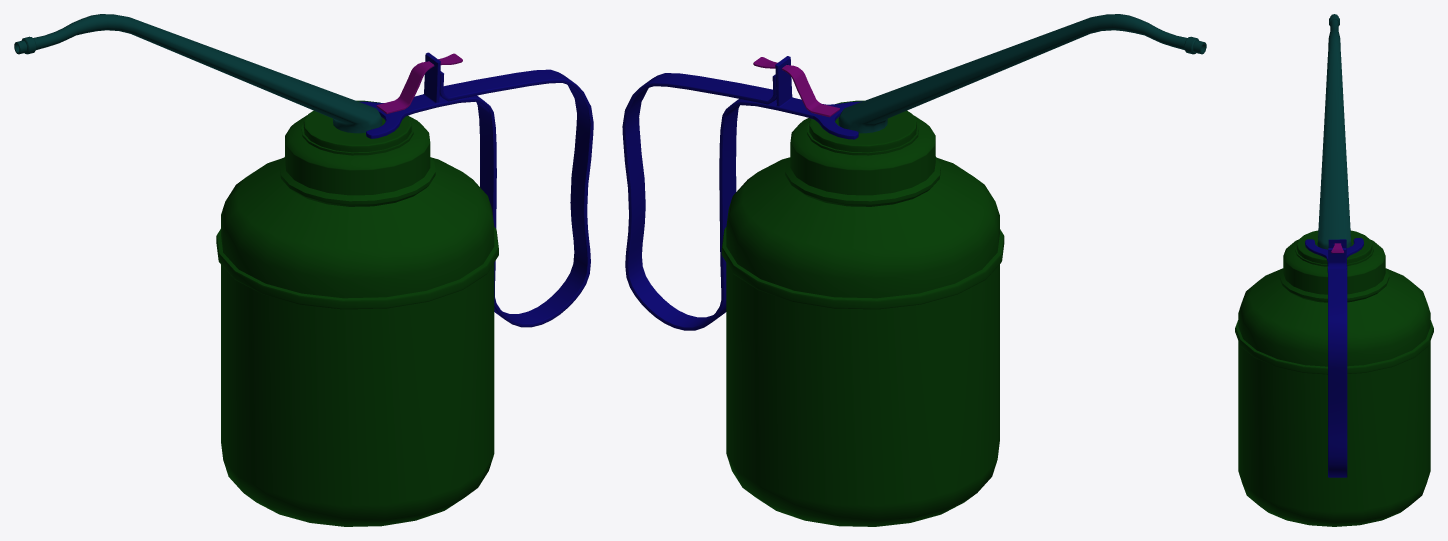
Rendered from PickupItem_OilCan.fbx.
3 renders of one model, left to right at view 1: azimuth 30°, elevation 25°; view 2: azimuth 150°, elevation 25°; view 3: azimuth 270°, elevation 25°, orthographic. The views are drawn at different scales.
Parts seen in each view (by area): view 1: PickupItem_OilCan; view 2: PickupItem_OilCan; view 3: PickupItem_OilCan.
Boxes of the visible parts, <box> form: PickupItem_OilCan: <box>14,14,593,526</box>; PickupItem_OilCan: <box>622,14,1206,526</box>; PickupItem_OilCan: <box>1235,14,1433,526</box>.
Bounding box in the file's own units: 7.83 × 6.94 × 3.37.
